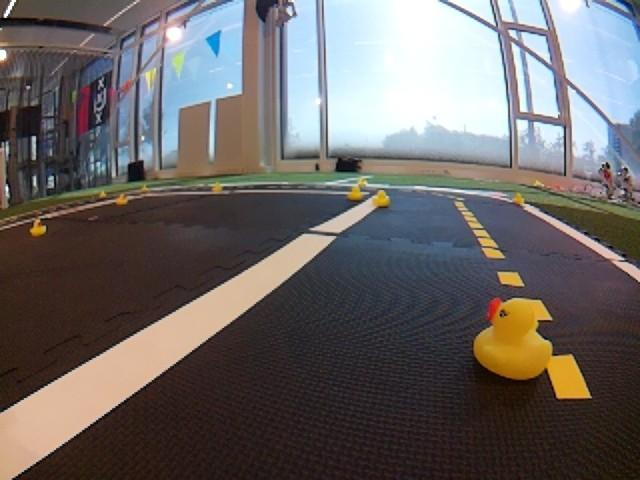Duckies: (473, 299, 551, 379), (372, 190, 391, 206), (31, 220, 46, 236), (347, 187, 362, 200), (512, 193, 524, 205), (116, 195, 128, 205), (212, 181, 222, 191), (357, 180, 367, 186), (99, 190, 106, 198), (140, 185, 148, 191)
